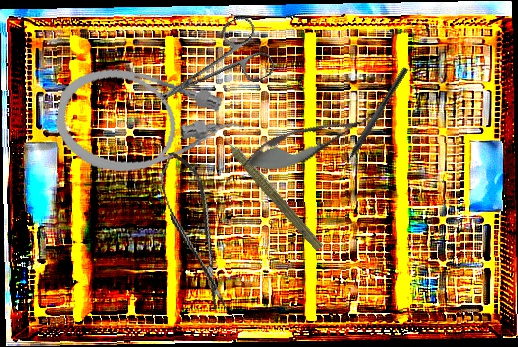Cannula: (49, 60, 251, 192)
Chopper: (332, 61, 409, 177)
Handpiece: (211, 122, 328, 254)
Iris Scissors: (144, 12, 278, 126)
Micro Scissor: (154, 146, 235, 315), (236, 97, 387, 184)
